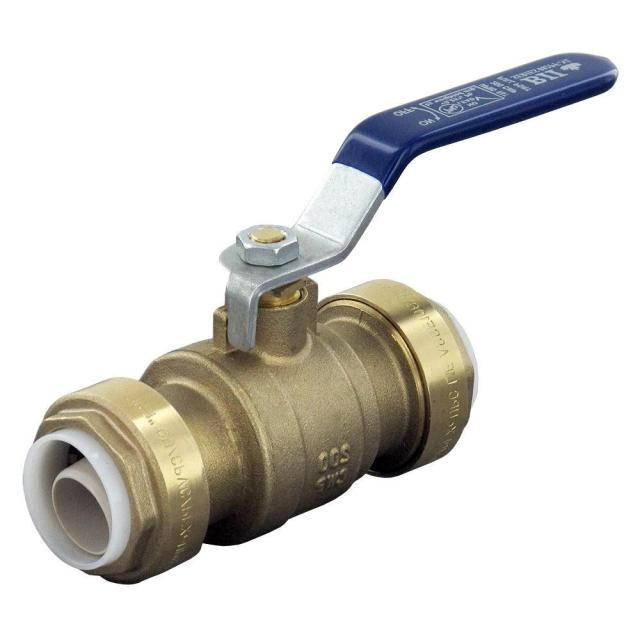opened_valve: (22, 49, 624, 589)
